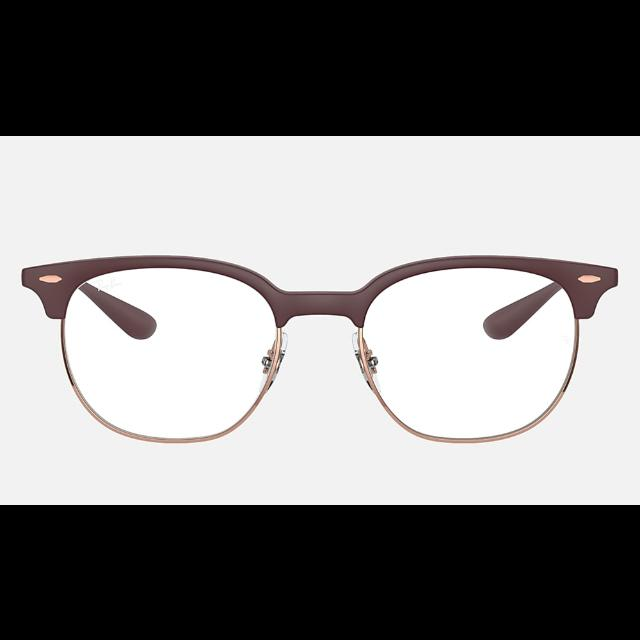glasses: (26, 255, 620, 443)
